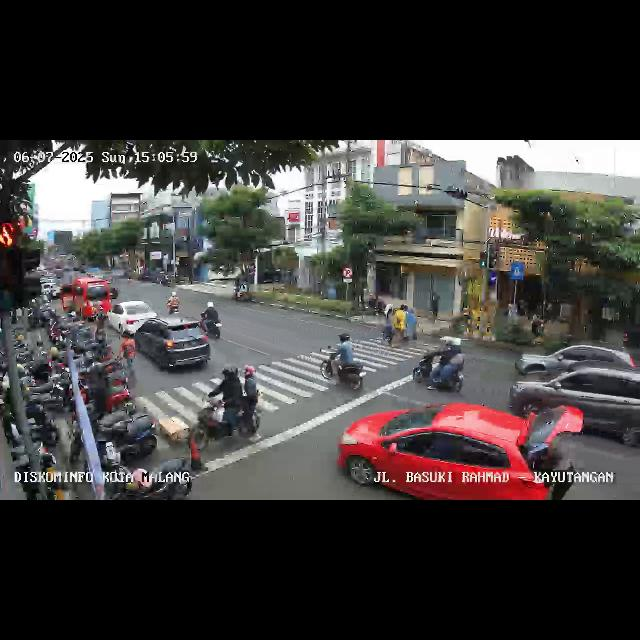car: (337, 402, 556, 500), (508, 362, 640, 446), (514, 340, 634, 380), (132, 318, 212, 376), (60, 278, 110, 322), (107, 300, 157, 334)
motorcycle: (199, 364, 263, 446), (412, 337, 468, 395), (318, 332, 369, 392), (200, 302, 223, 340), (164, 292, 182, 314)
person: (120, 329, 136, 383), (384, 302, 394, 348), (395, 302, 405, 346), (407, 307, 418, 345)
